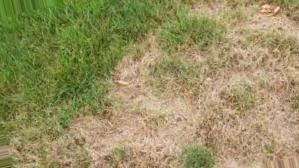patch: (142, 102, 192, 153), (202, 93, 233, 117), (88, 132, 119, 150), (266, 17, 293, 30), (138, 85, 160, 98), (114, 116, 130, 132), (277, 112, 292, 126), (133, 60, 146, 71)
